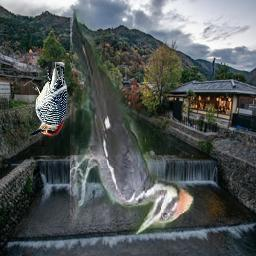Woodpecker: (70, 10, 194, 235), (27, 63, 69, 140)
